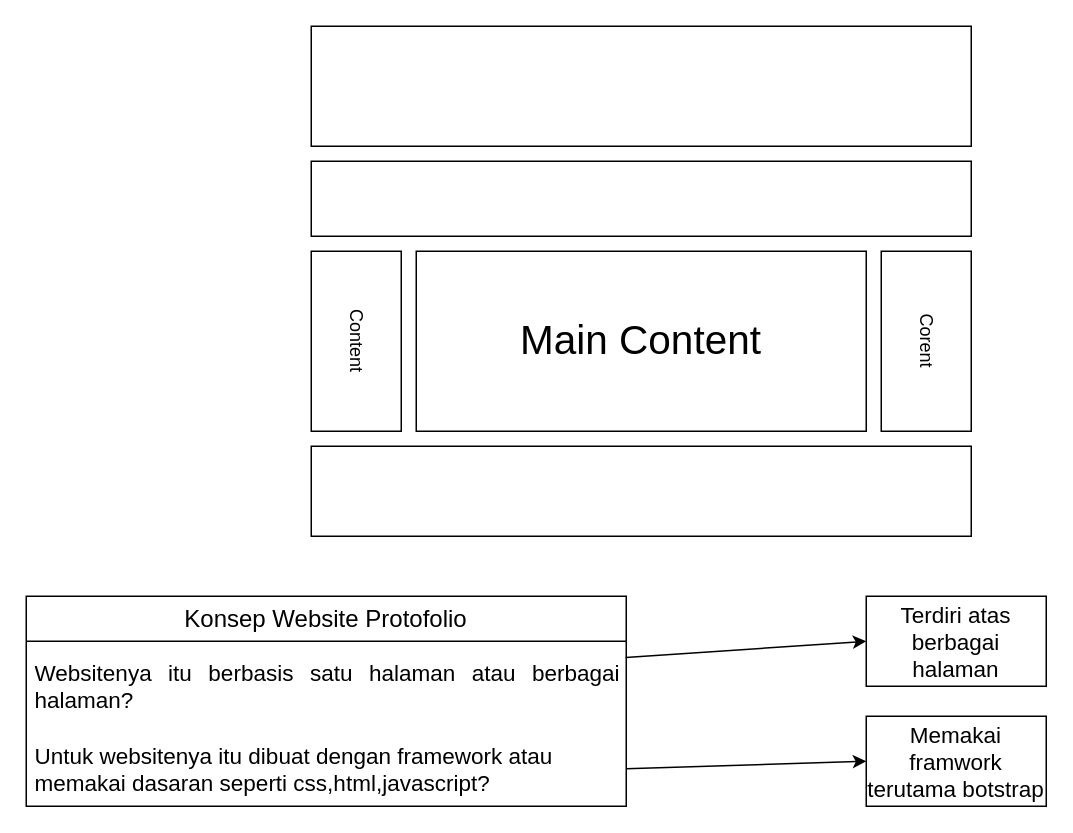
Some shapes in this 1073 by 833 pixel diagram are drawn without their labels. Each missing label, with the centre of its shape:
Footer: (x=640, y=490)
Header: (x=640, y=85)
Navigation: (x=640, y=198)
